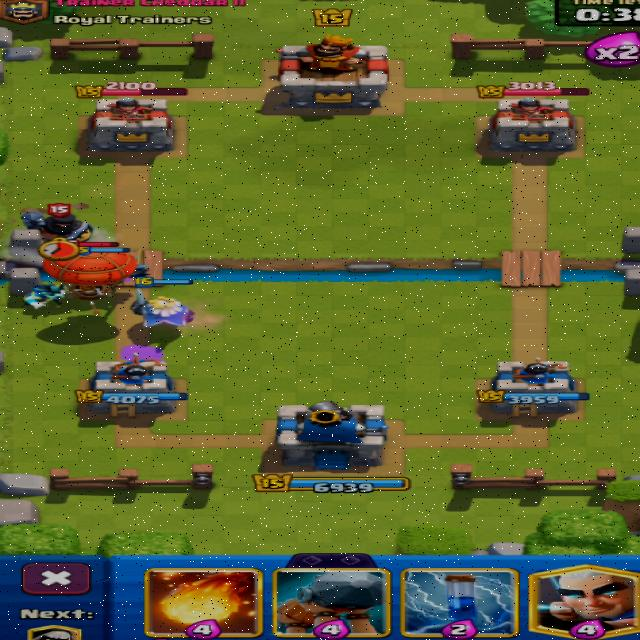Enemy-Balloon: (43, 247, 138, 301)
Enemy-DarkPrince-Shield: (23, 212, 92, 241)
Enemy-KingTower: (278, 35, 388, 109)
Enemy-PrincessTower: (88, 98, 173, 151), (490, 98, 574, 150)
Player-ElectroWizard: (24, 284, 65, 308)
Player-KingTower-Activated: (275, 401, 386, 470)
Player-PrincessTower: (77, 352, 185, 416), (478, 358, 578, 416)
Player-RoyalGhost: (131, 291, 194, 326)
